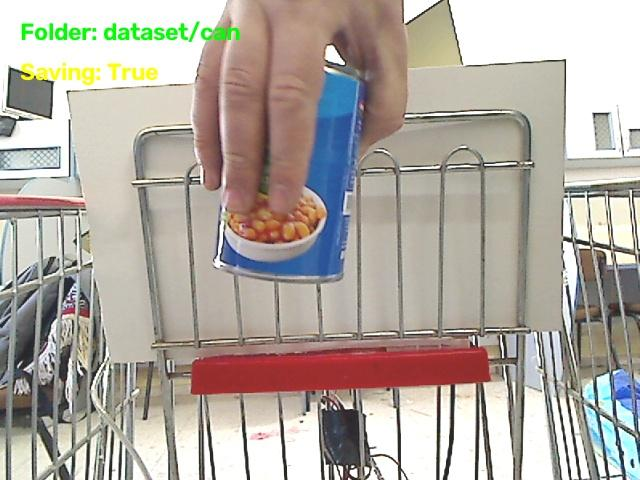can: (214, 64, 364, 282)
